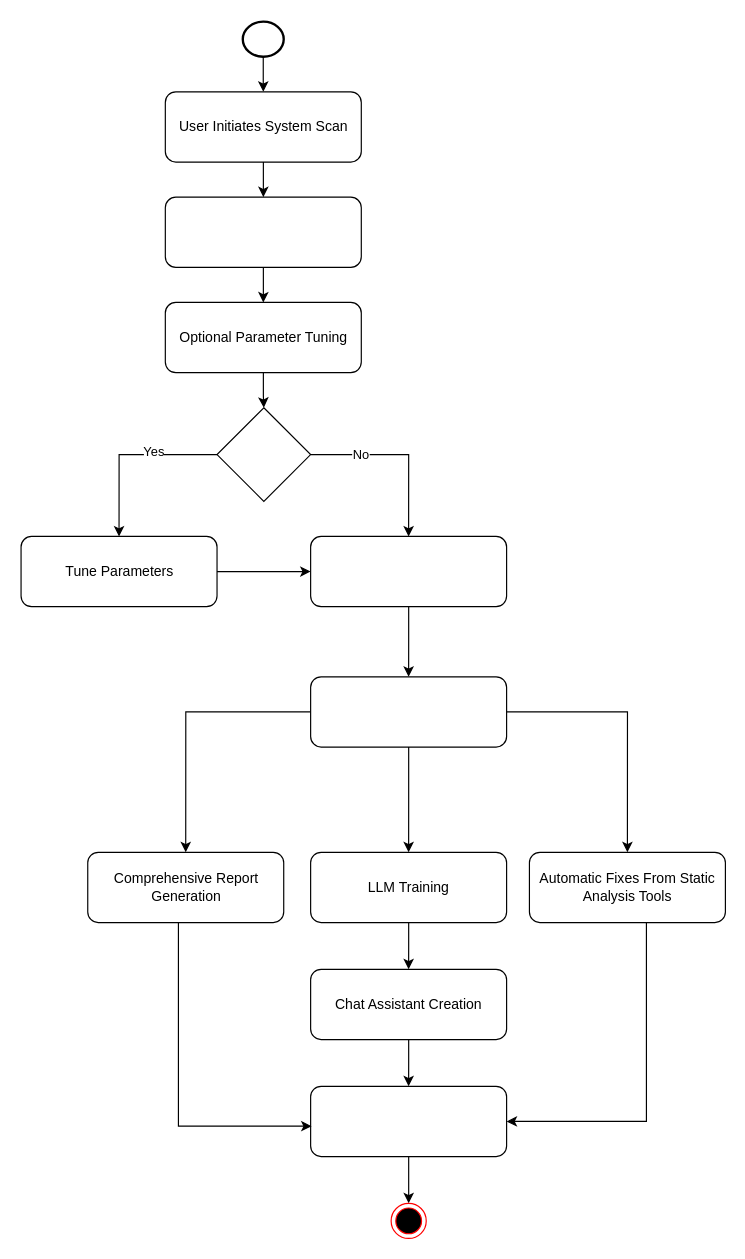
This 745x1259 diagram has some shape labels left out. The shapes that lost their labels are listed below. From the top down, each one's centre as x and y in pixels, then its label:
At point (262, 231): "Preliminary Data Collected from scan".
At point (408, 571): "Static Analysis".
At point (408, 711): "Data Collection Hub".
At point (408, 1121): "Dashboard".
